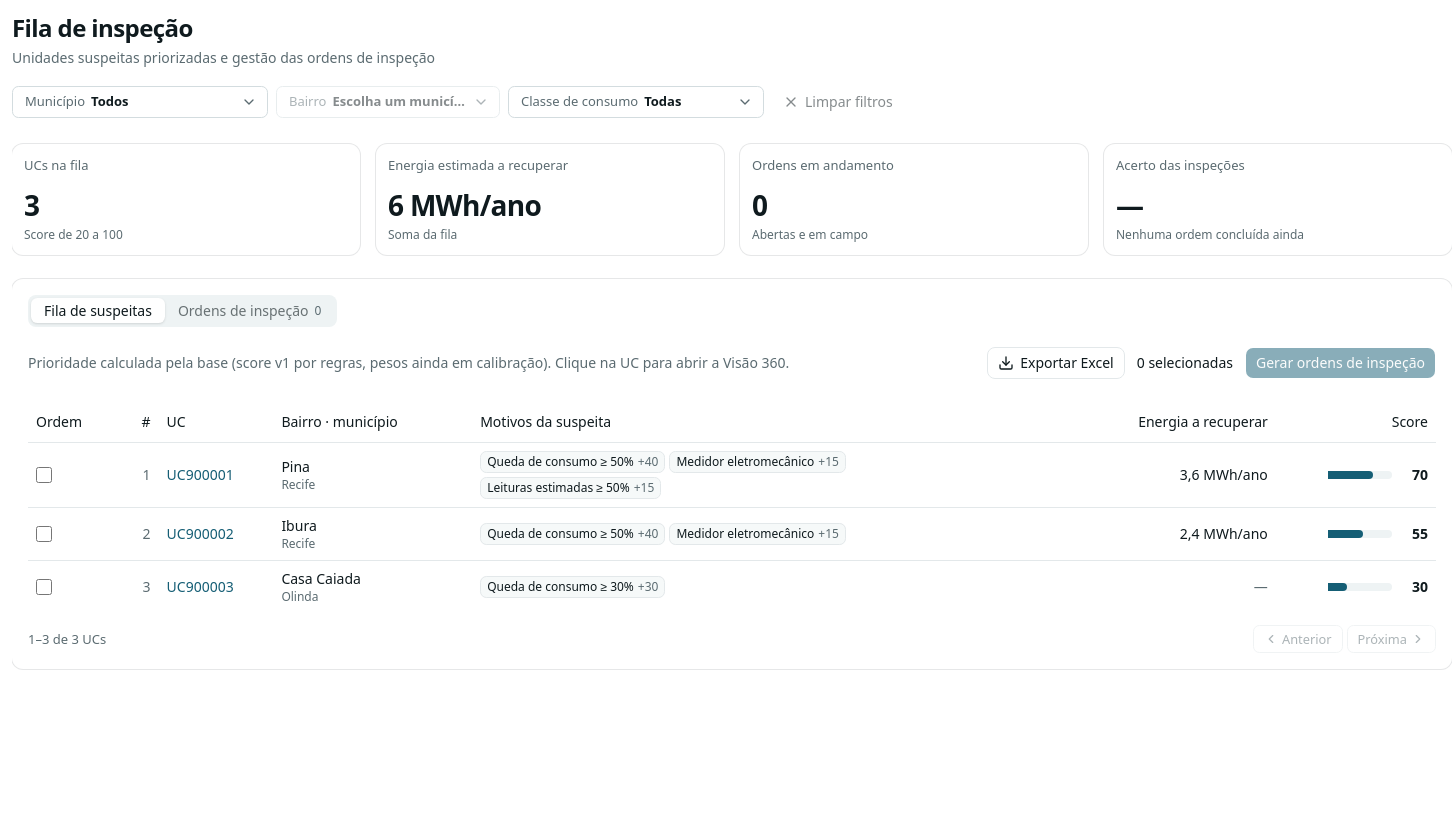
Test: UC que ganhou ordem com a tela aberta: nada é gerado e ela sai da seleção
The width and height of the screenshot is (1452, 822).
Click the checkbox named "Selecionar UC900001". click: click(44, 475)
box: top-left (36, 467), bottom-right (52, 483)
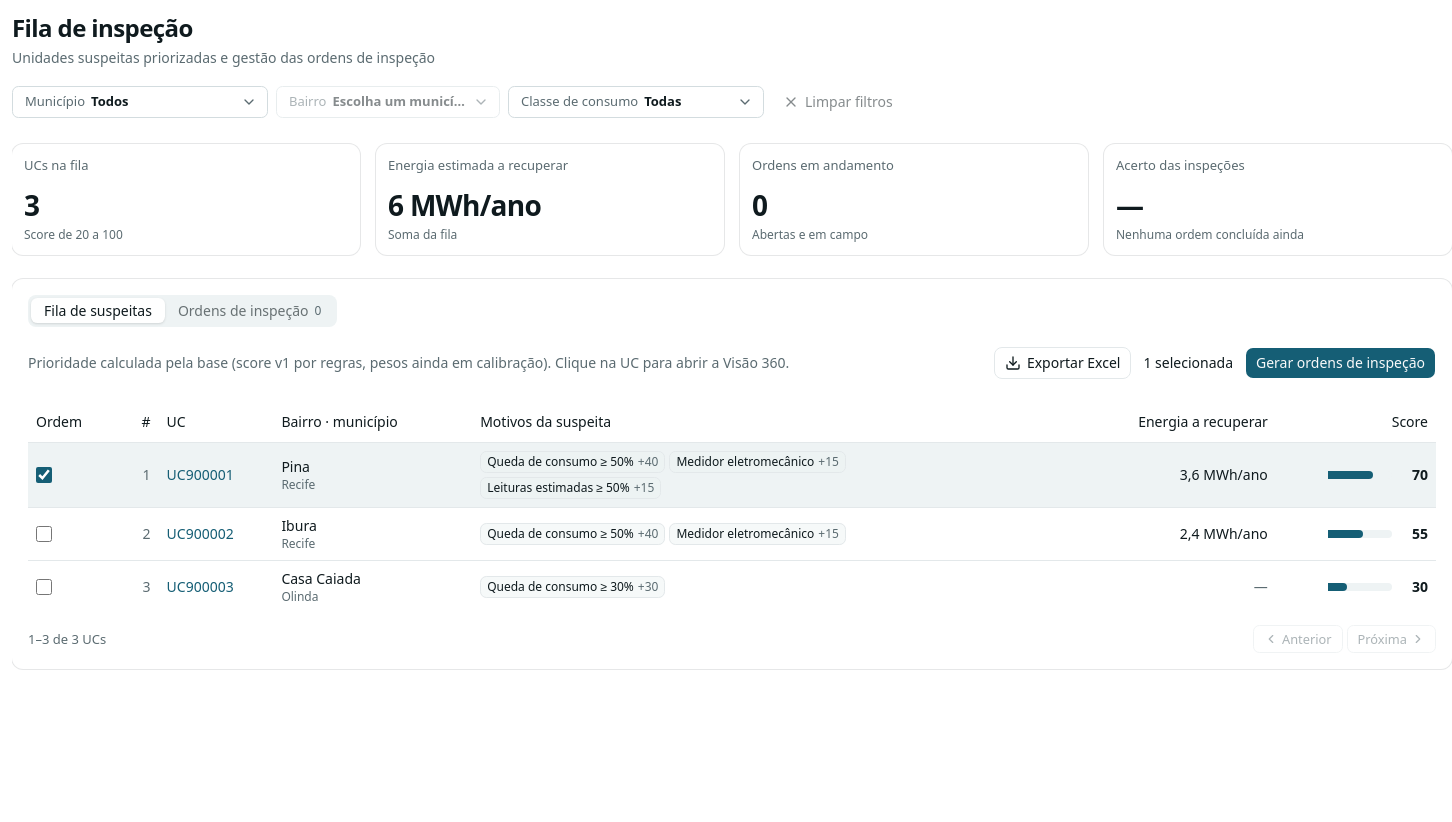
Click the checkbox named "Selecionar UC900002". click: click(44, 534)
box: top-left (36, 526), bottom-right (52, 542)
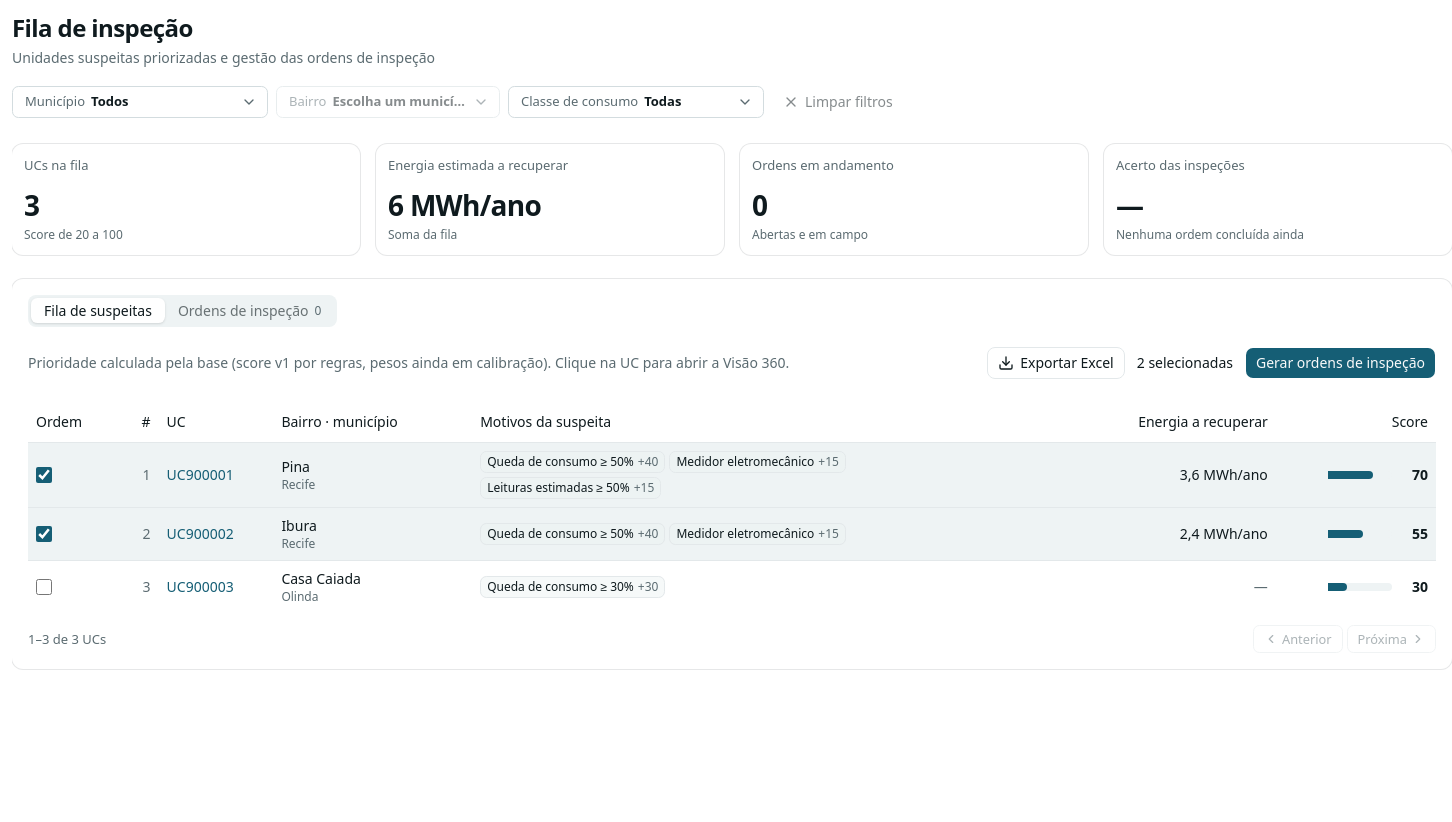
Click the button "Gerar ordens de inspeção". click: click(1340, 363)
box: top-left (1245, 347), bottom-right (1436, 379)
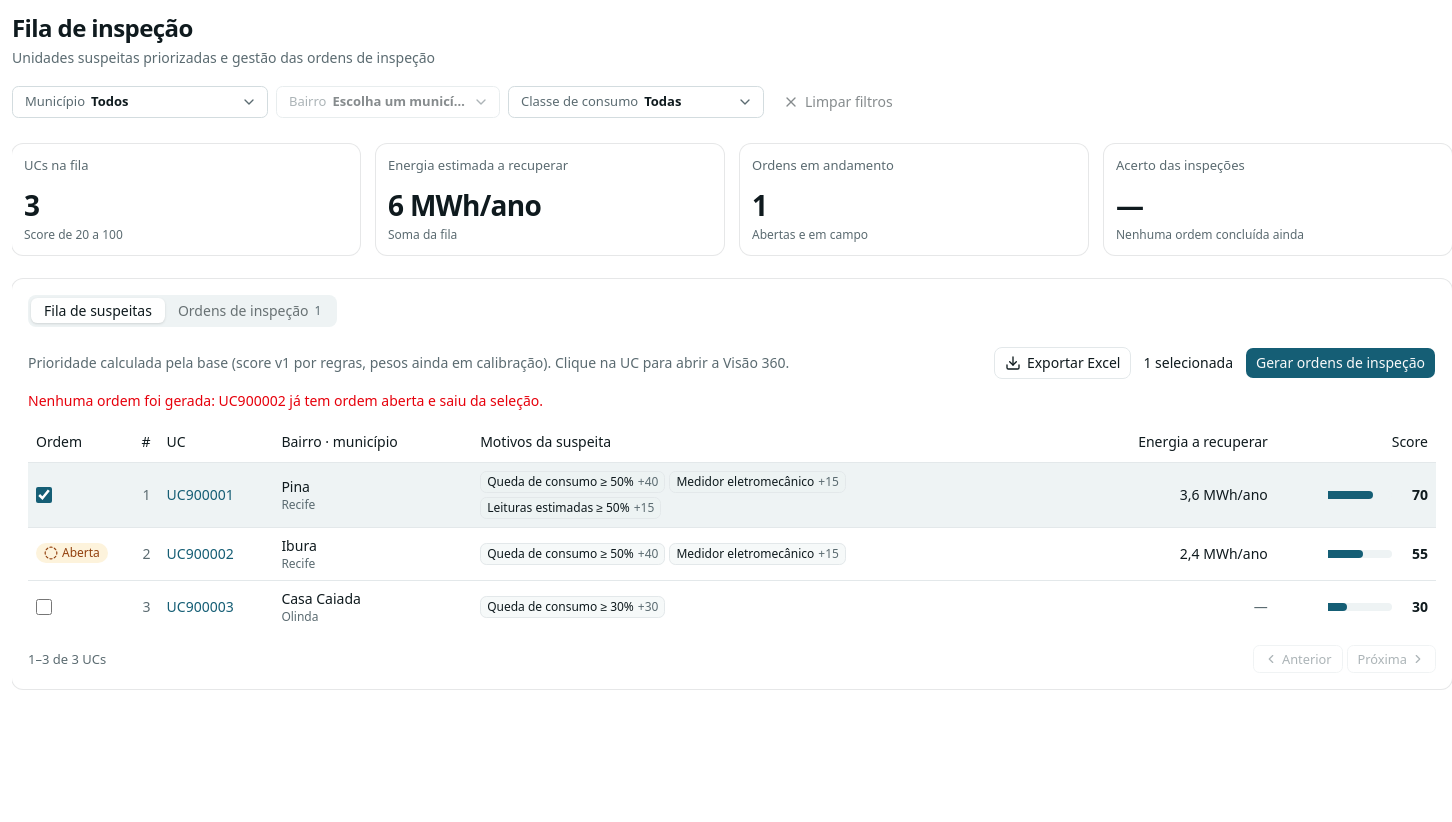
Now the text "Nenhuma ordem foi gerada: UC900002 já tem ordem aberta e saiu da seleção." is shown, box top-left (28, 391), bottom-right (543, 410)
Now the text "1 selecionada" is shown, box top-left (1144, 353), bottom-right (1233, 373)
Now the number of checkboxes is 2, box top-left (36, 487), bottom-right (52, 503); top-left (36, 599), bottom-right (52, 615)
Click the button "Gerar ordens de inspeção". click: click(1340, 363)
box: top-left (1245, 347), bottom-right (1436, 379)
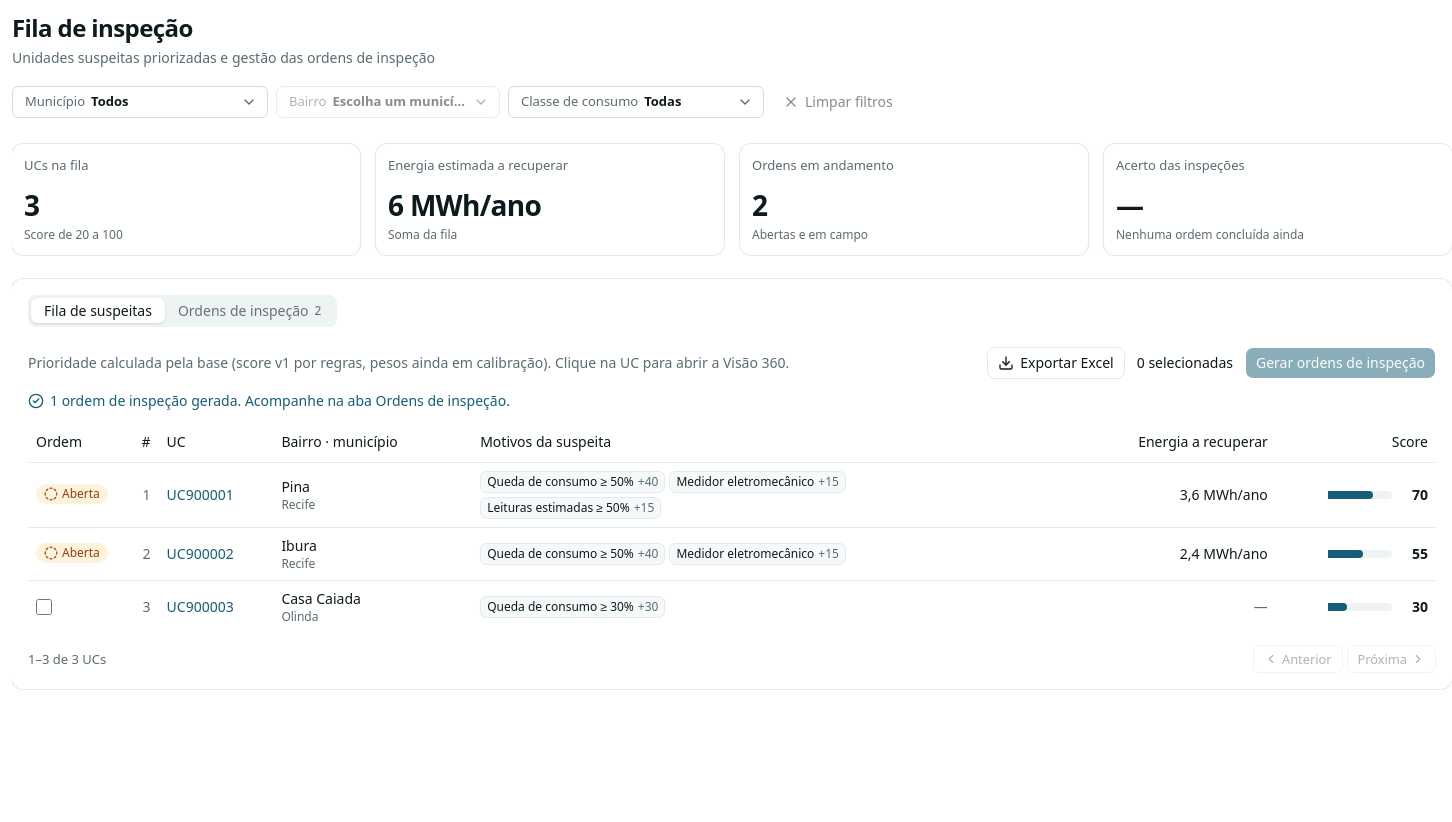
Now the text "1 ordem de inspeção gerada." is shown, box top-left (50, 391), bottom-right (241, 410)
